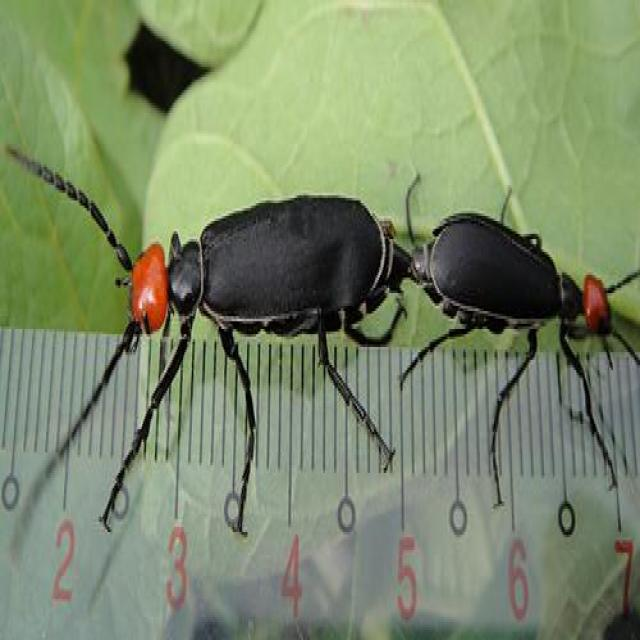BlisterBeetle-Adult-: (8, 119, 410, 563), (406, 169, 638, 521)
